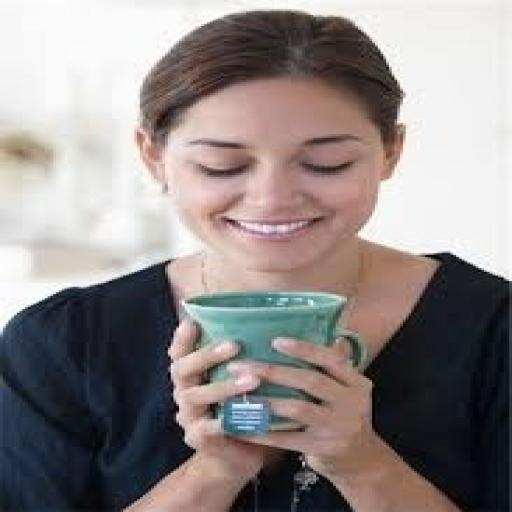drinking: (179, 50, 393, 438)
